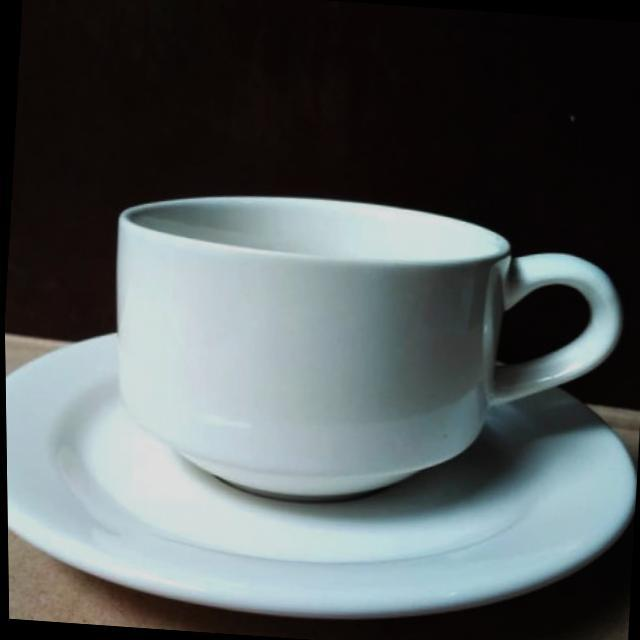cup: (2, 162, 640, 640)
